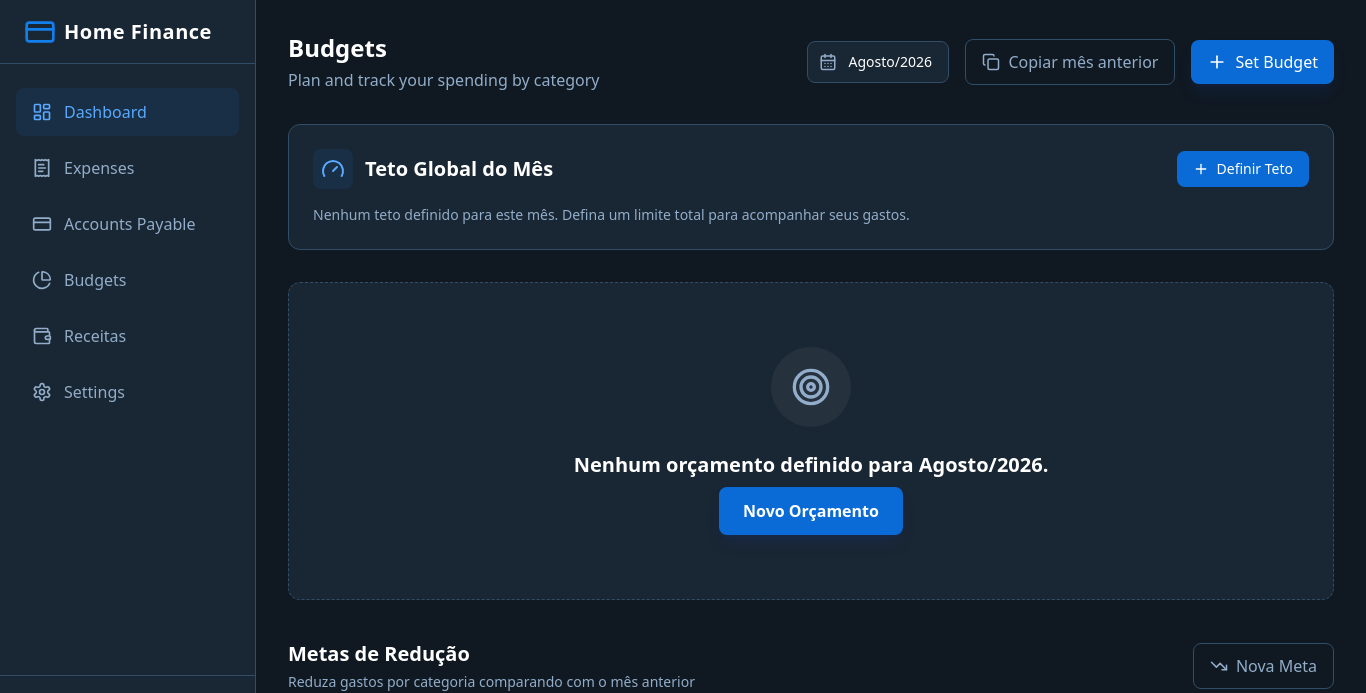
Test case: Budgets — Teto Global do Mês (HF-45) › sem teto (404): CTA "Definir Teto" cria o teto e o card passa a exibi-lo
Check: the text "Nenhum teto definido para este mês" is shown, box [313,205,910,224]
Click the button "Definir Teto": (1243, 169) [1176,151,1309,187]
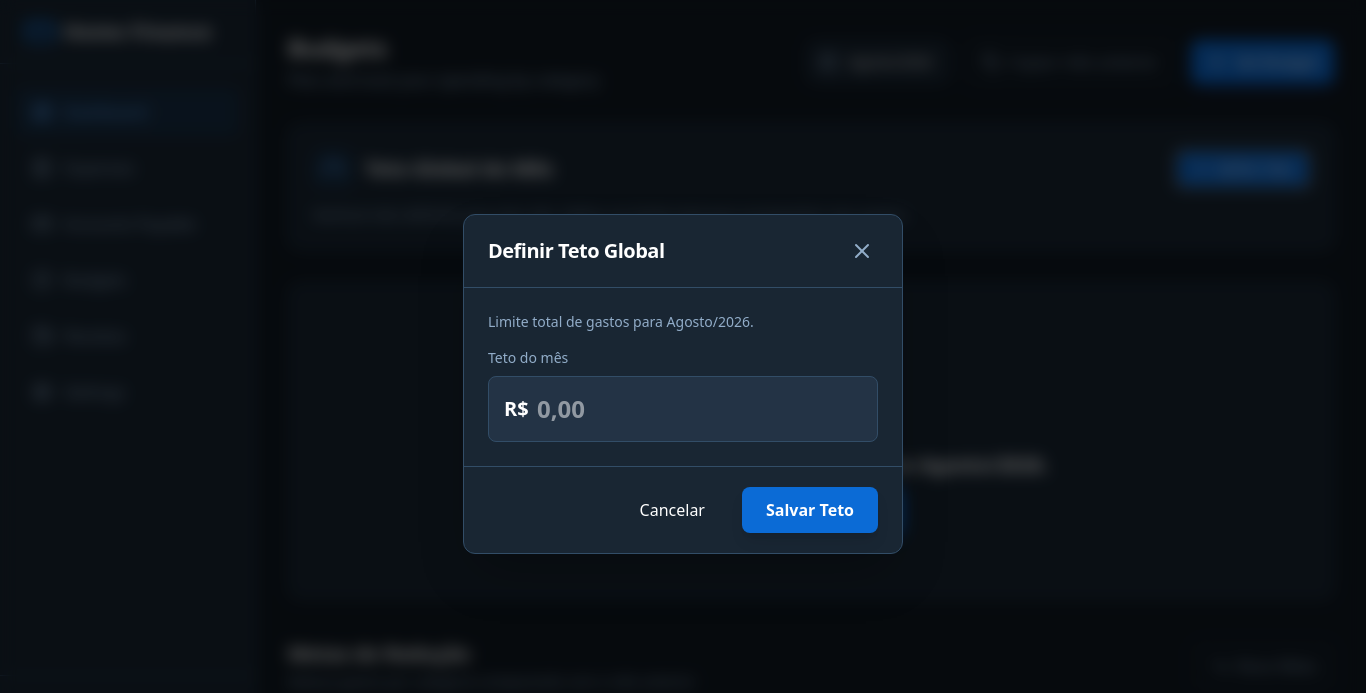
In the field labelled "Teto do mês": (683, 409) [488,376,878,442], type "1800"
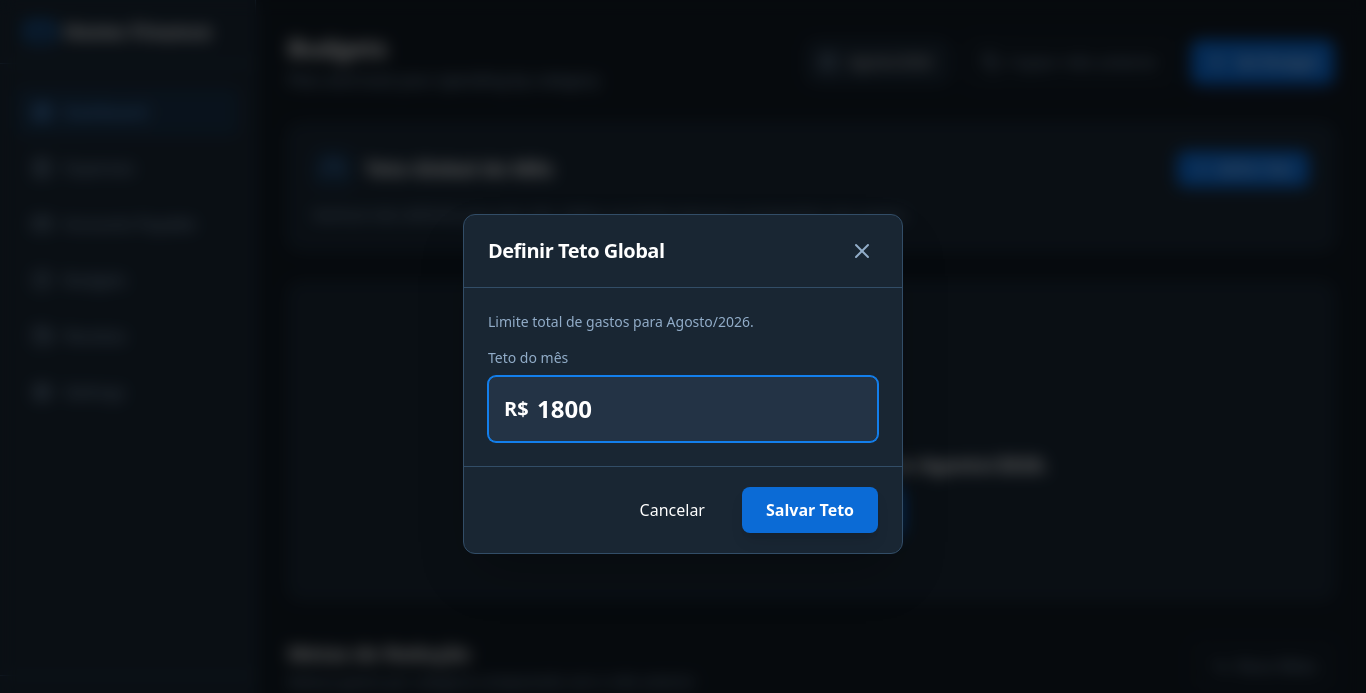
Click the button "Salvar Teto": (810, 510) [742,487,878,533]
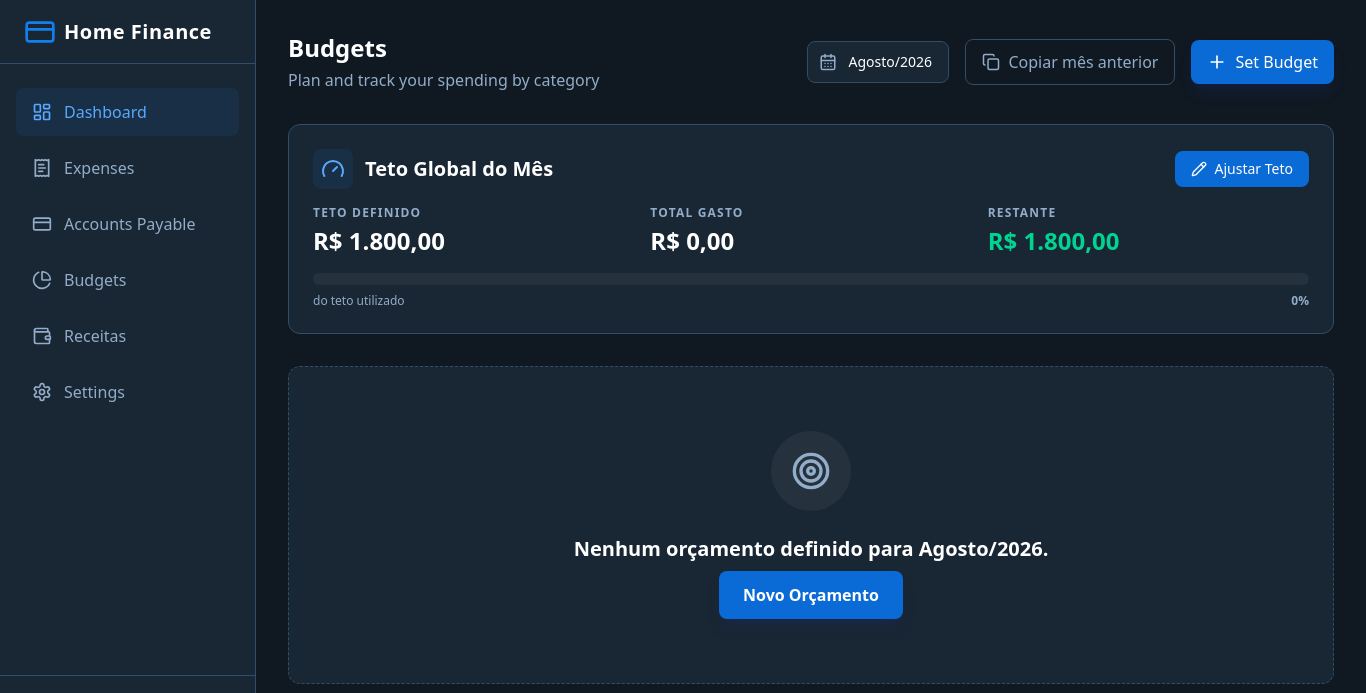
Check: the text "R$ 1.800,00" is shown 2 times, box [313,224,445,257]; [988,224,1120,257]
Check: the text "Nenhum teto definido para este mês" is gone
